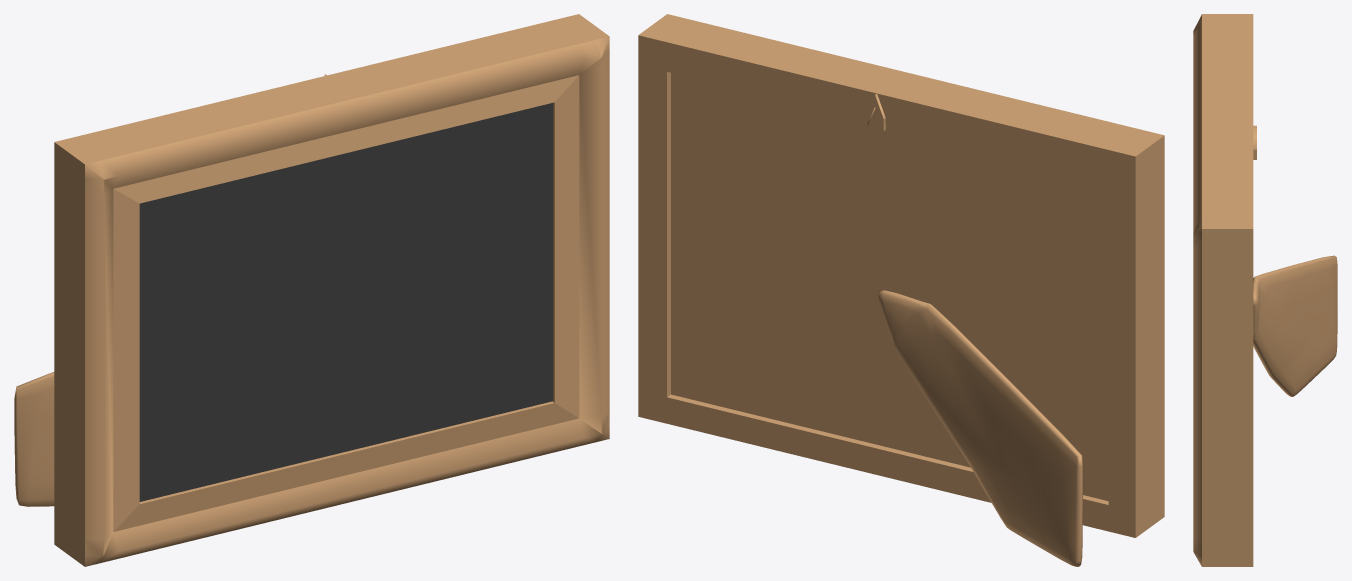
Rendered from wood_image_frame.glb.
3 views of the same model, side by side, from view 1: azimuth 30°, elevation 25°; view 2: azimuth 150°, elevation 25°; view 3: azimuth 270°, elevation 25° (orthographic). The views are drawn at different scales.
Visible parts, largest first — view 1: family_photo1; view 2: family_photo1; view 3: family_photo1.
Part boxes in pixels (x1,y1,x2,y2): family_photo1: [14, 14, 609, 566]; family_photo1: [638, 14, 1164, 566]; family_photo1: [1193, 14, 1337, 566].
Size of the model in its own units: 0.3053 by 0.2244 by 0.0868.
